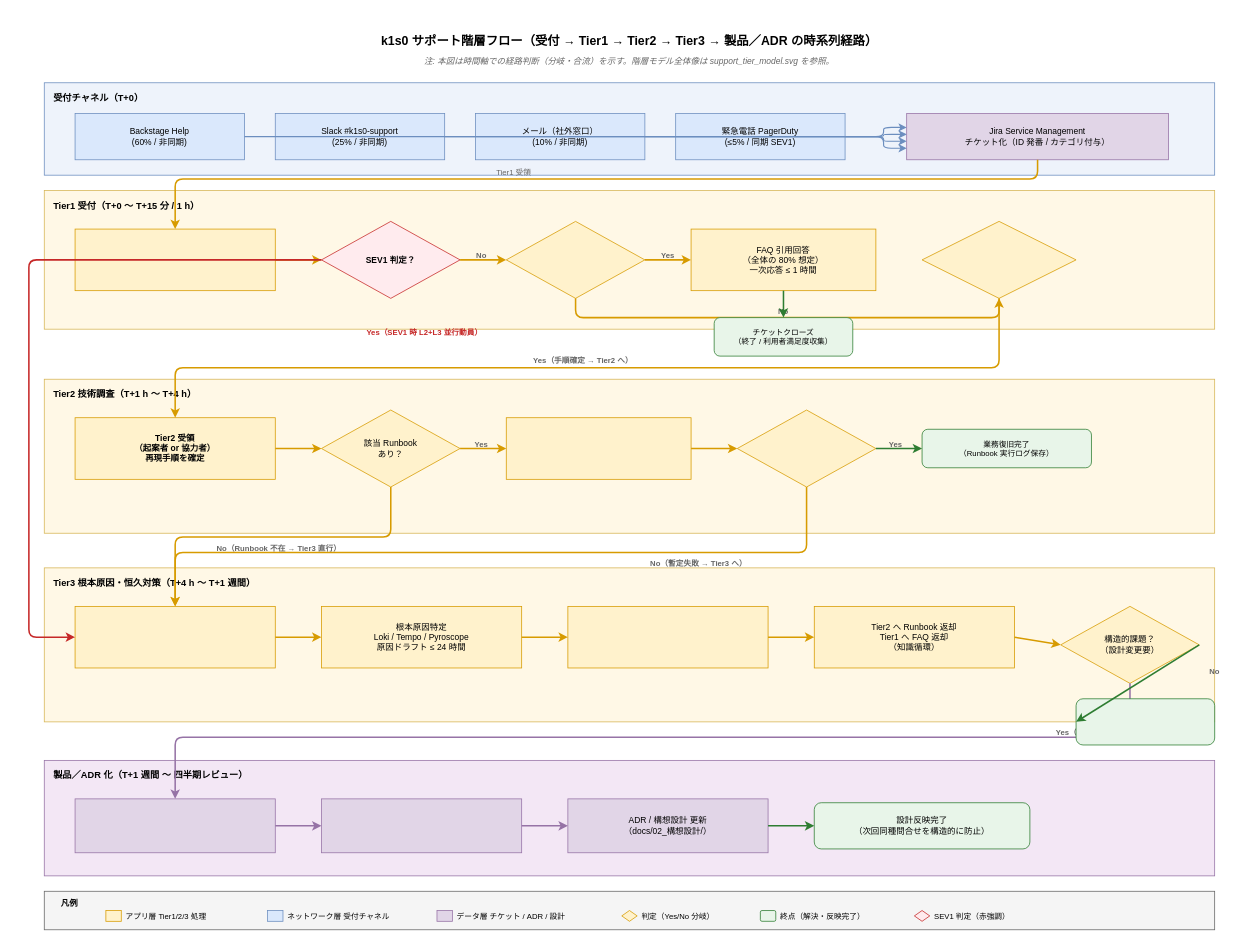
This 1258x950 diagram has some shape labels left out. The centre of each missing label's shape, as x and y in pixels:
"ADR 起案 （設計判断の記録）" belongs at [174,825].
"FAQ で解決可？" belongs at [575,259].
"Product Council 四半期レビュー・承認" belongs at [421,825].
"Runbook 実行 failover / 再起動 / 迂回 暫定復旧" belongs at [598,448].
"Tier1 受領 （オンコール当番 1 名） カテゴリ分類 + Severity 暫定" belongs at [174,259].
"Tier3 召集 （コア開発者） 着手 ≤ 8 時間" belongs at [174,637].
"再現手順確定可？ （利用者と対話）" belongs at [998,259].
"恒久対策実装 コード / 設定 / Runbook 追加 1 週間以内デプロイ" belongs at [667,637].
"暫定対応で 業務復旧？" belongs at [806,448].
"構造課題なし （Runbook / FAQ で十分）" belongs at [1145,721].
